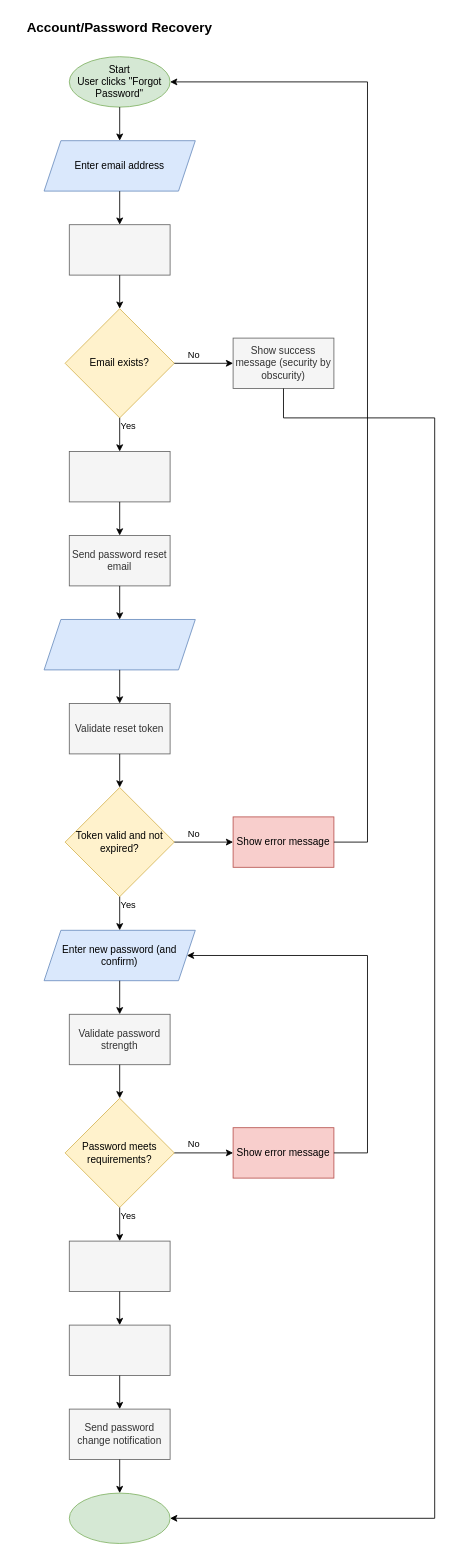
Some shapes in this 456 by 1558 pixel diagram are drawn without their labels. The box of each missing label's shape, as (x1, y1, x2, y2) in pixels:
Check if email exists: (68, 224, 170, 275)
Click reset link in email: (43, 619, 195, 670)
End Password reset successful: (68, 1492, 170, 1544)
Generate password reset token: (68, 451, 170, 502)
Invalidate all active sessions: (68, 1324, 170, 1376)
Update password in database: (68, 1240, 170, 1292)
